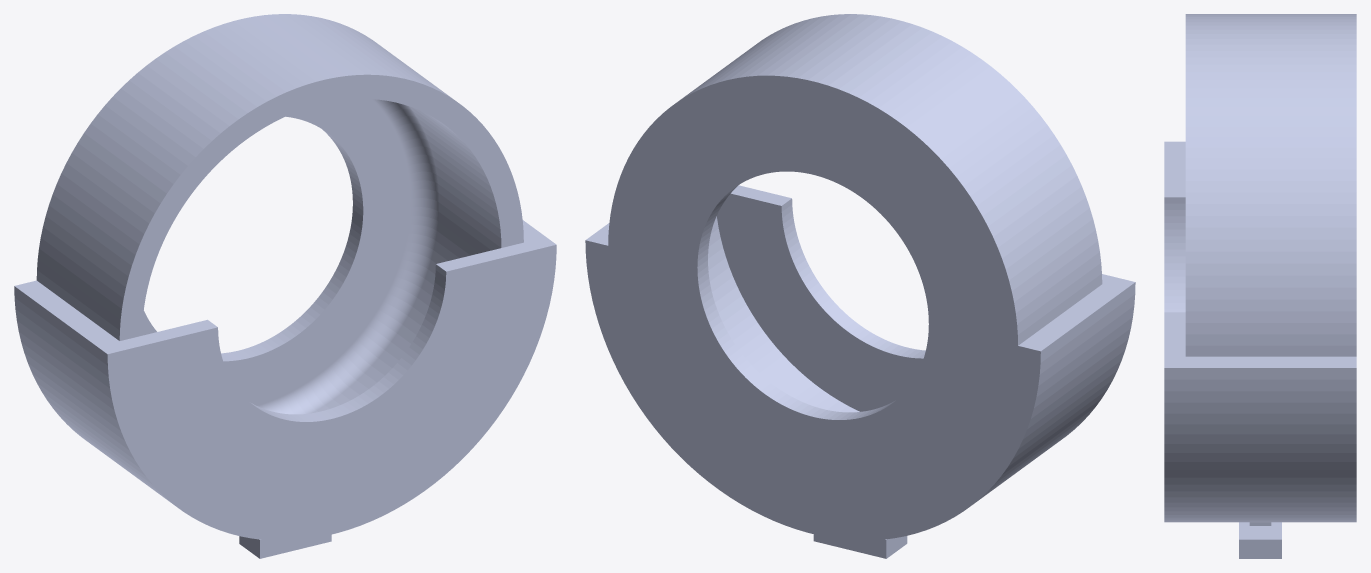
Rendered from capsula4.obj.
3 views of the same model, side by side, from view 1: azimuth 30°, elevation 25°; view 2: azimuth 150°, elevation 25°; view 3: azimuth 270°, elevation 25° (orthographic). The views are drawn at different scales.
Parts seen in each view (by area): view 1: obj1; view 2: obj1; view 3: obj1.
Boxes of the visible parts, x1=… form: obj1: x1=14, y1=14, x2=556, y2=558; obj1: x1=585, y1=14, x2=1135, y2=558; obj1: x1=1164, y1=14, x2=1356, y2=558.
Size of the model in its own units: 50 by 51.99 by 18.
